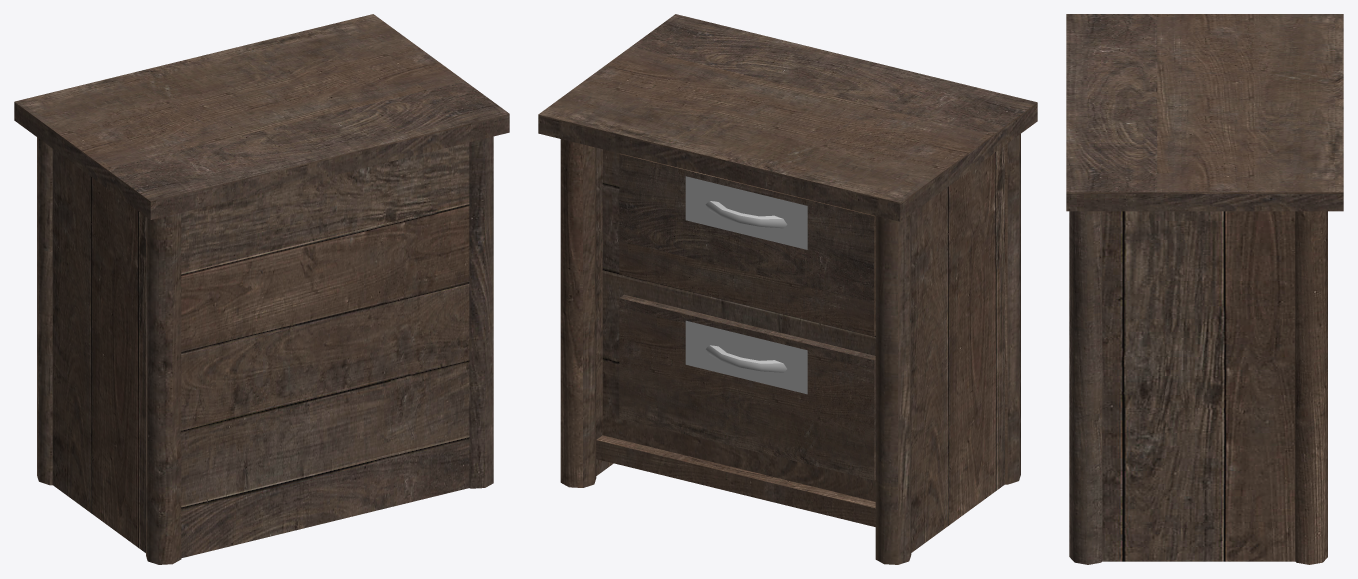
Rendered from mw_wardrobe_small_01.FBX.
3 renders of one model, left to right at view 1: azimuth 30°, elevation 25°; view 2: azimuth 150°, elevation 25°; view 3: azimuth 270°, elevation 25°, orthographic.
Parts seen in each view (by area): view 1: mw_wardrobe_small_01; view 2: mw_wardrobe_small_01; view 3: mw_wardrobe_small_01.
Part boxes in pixels (box(x1,y1,x2,y2)): mw_wardrobe_small_01: box(14, 14, 509, 564); mw_wardrobe_small_01: box(538, 14, 1037, 564); mw_wardrobe_small_01: box(1066, 14, 1343, 564).
Bounding box in the file's own units: 104 × 102 × 68.05.
